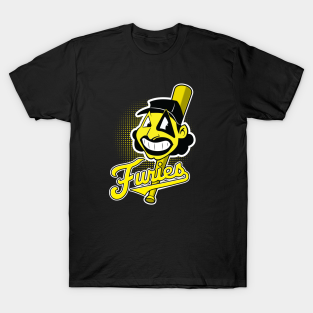design: (107, 81, 198, 206)
